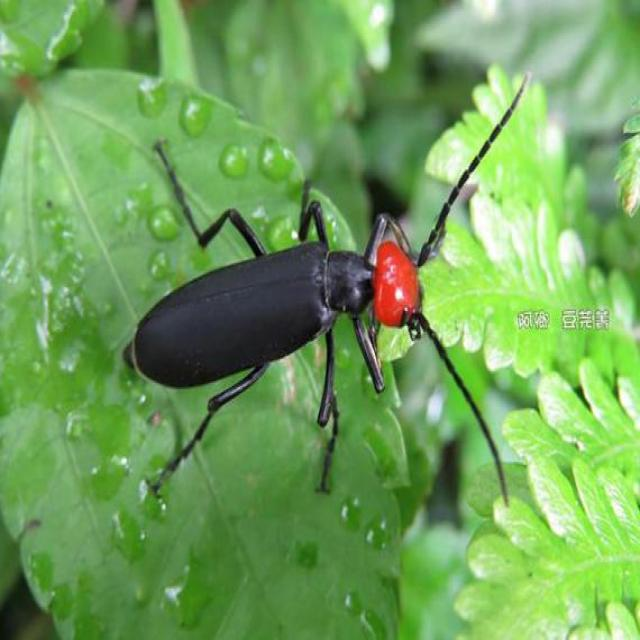BlisterBeetle-Adult-: (108, 69, 528, 513)
